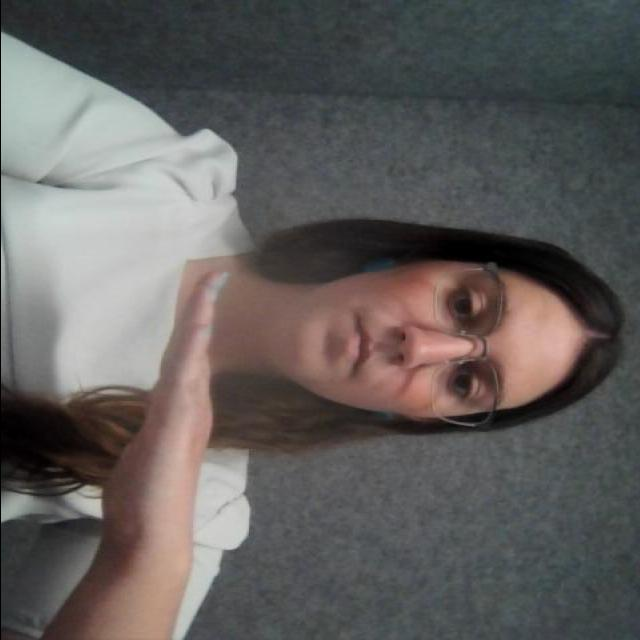Paper: (86, 259, 256, 564)
